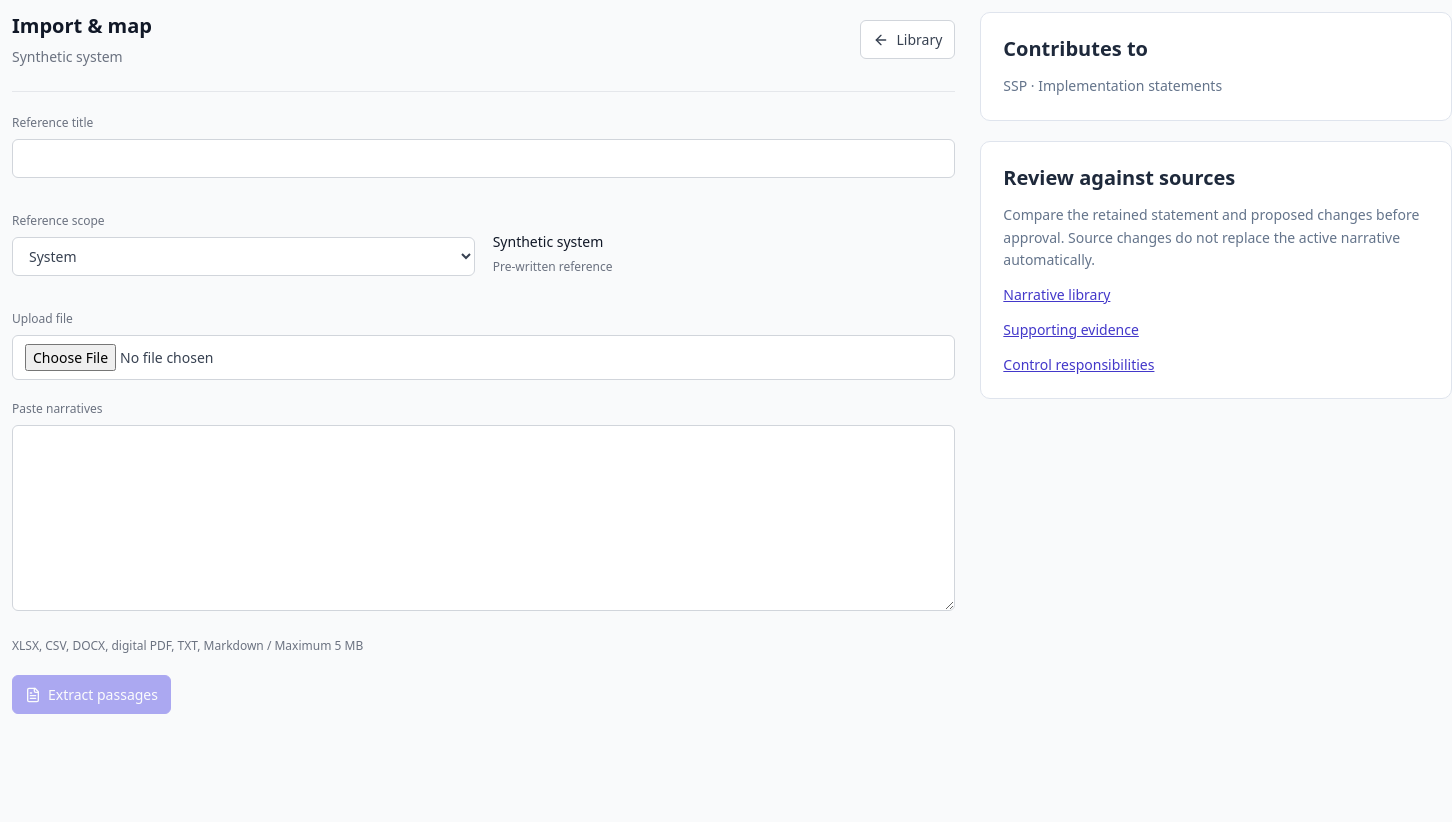
Scenario: Narratives workspace › rejects forged shared-reference scope even when system reference authoring is allowed
This screenshot has width=1452, height=822.
Expected: the text "Synthetic system" is shown, [12,47,123,66]
Type "Access policy" into the field labelled "Reference title". click: (484, 158)
box: [12,139,955,178]
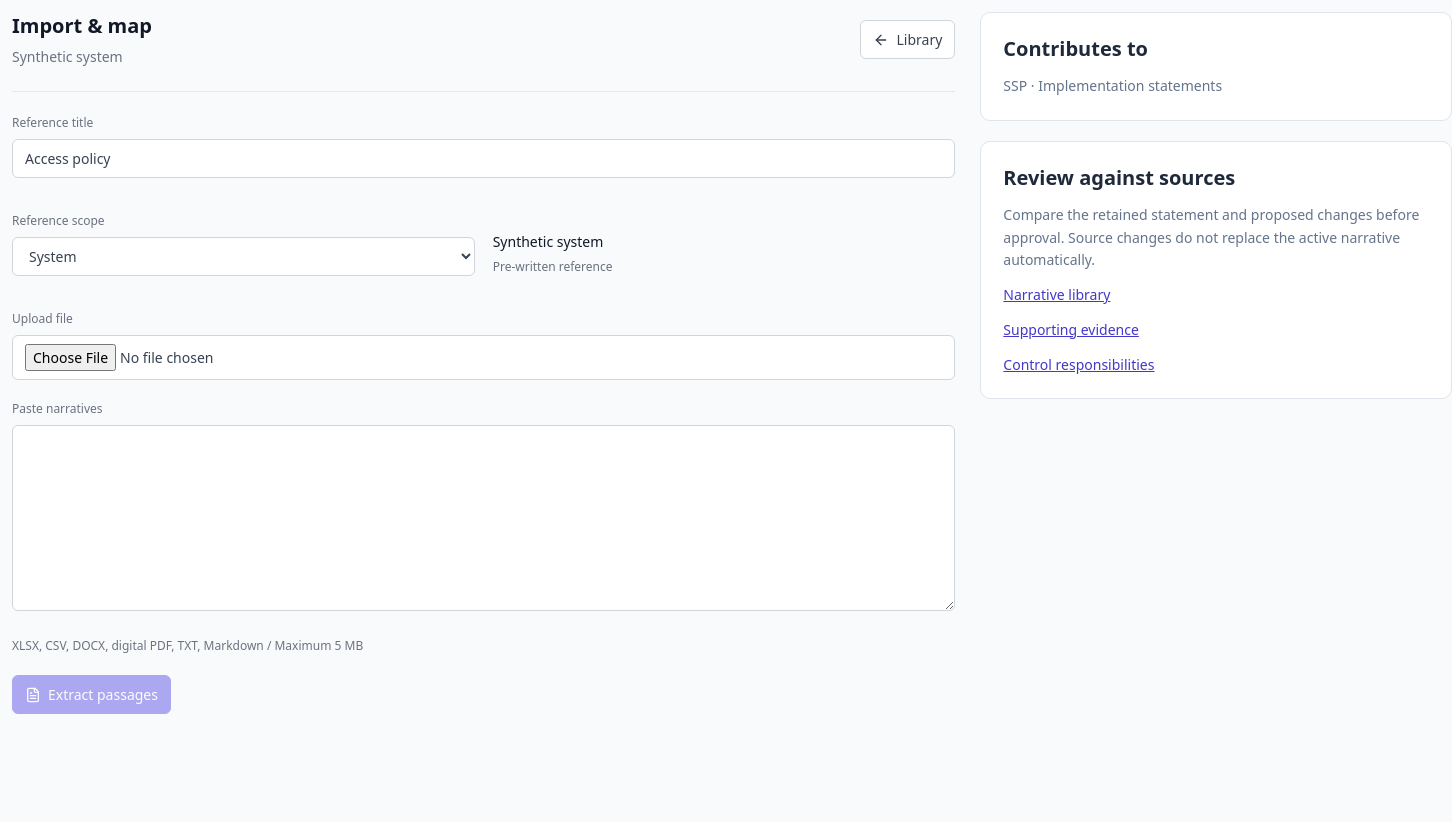
Type "Review quarterly." into the text box labelled "Paste narratives". click: (484, 518)
box: [12,425,955,611]
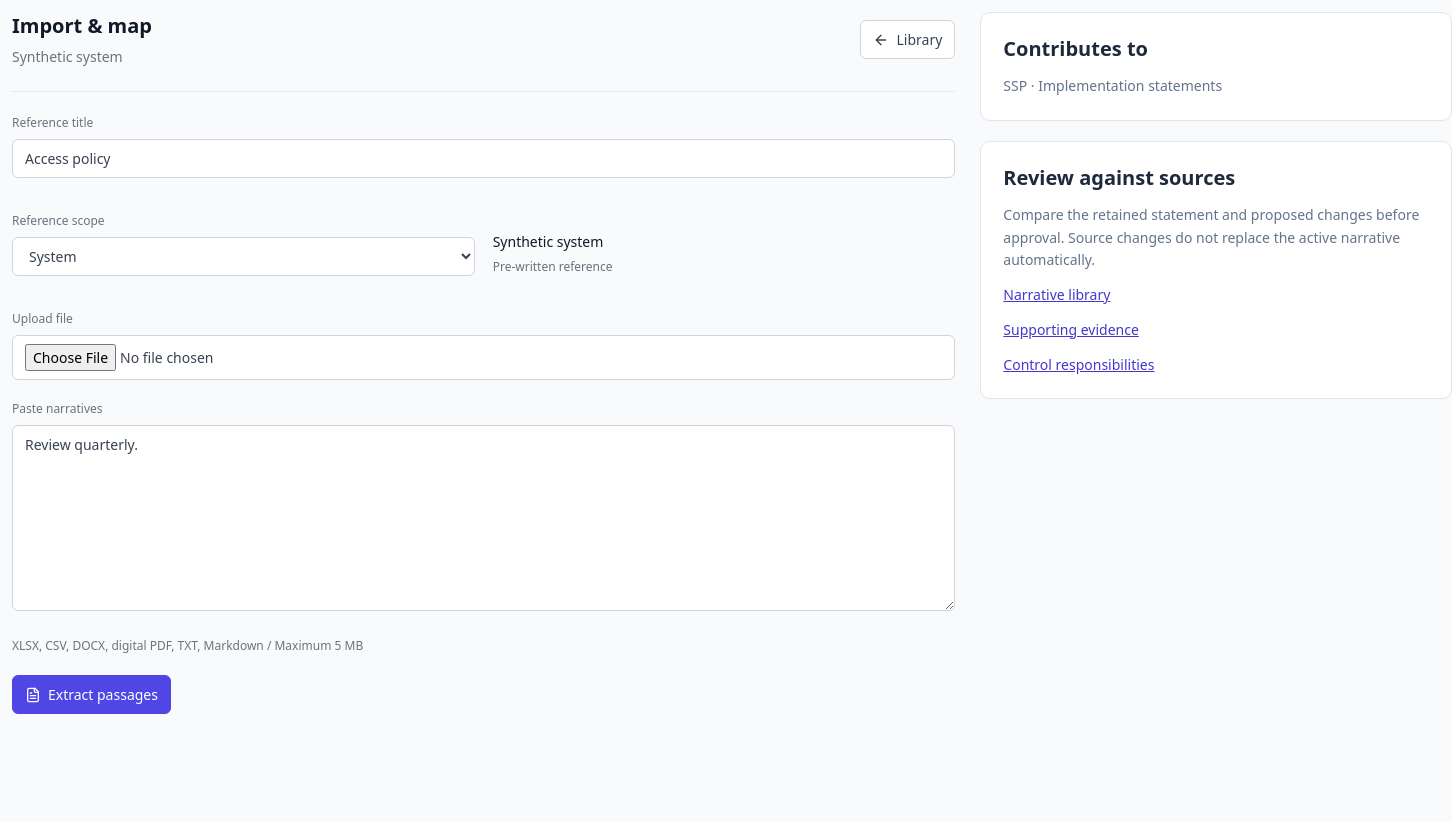
Select "Organization" in the dropdown labelled "Reference scope". click: (243, 256)
box: [12,237,475,276]
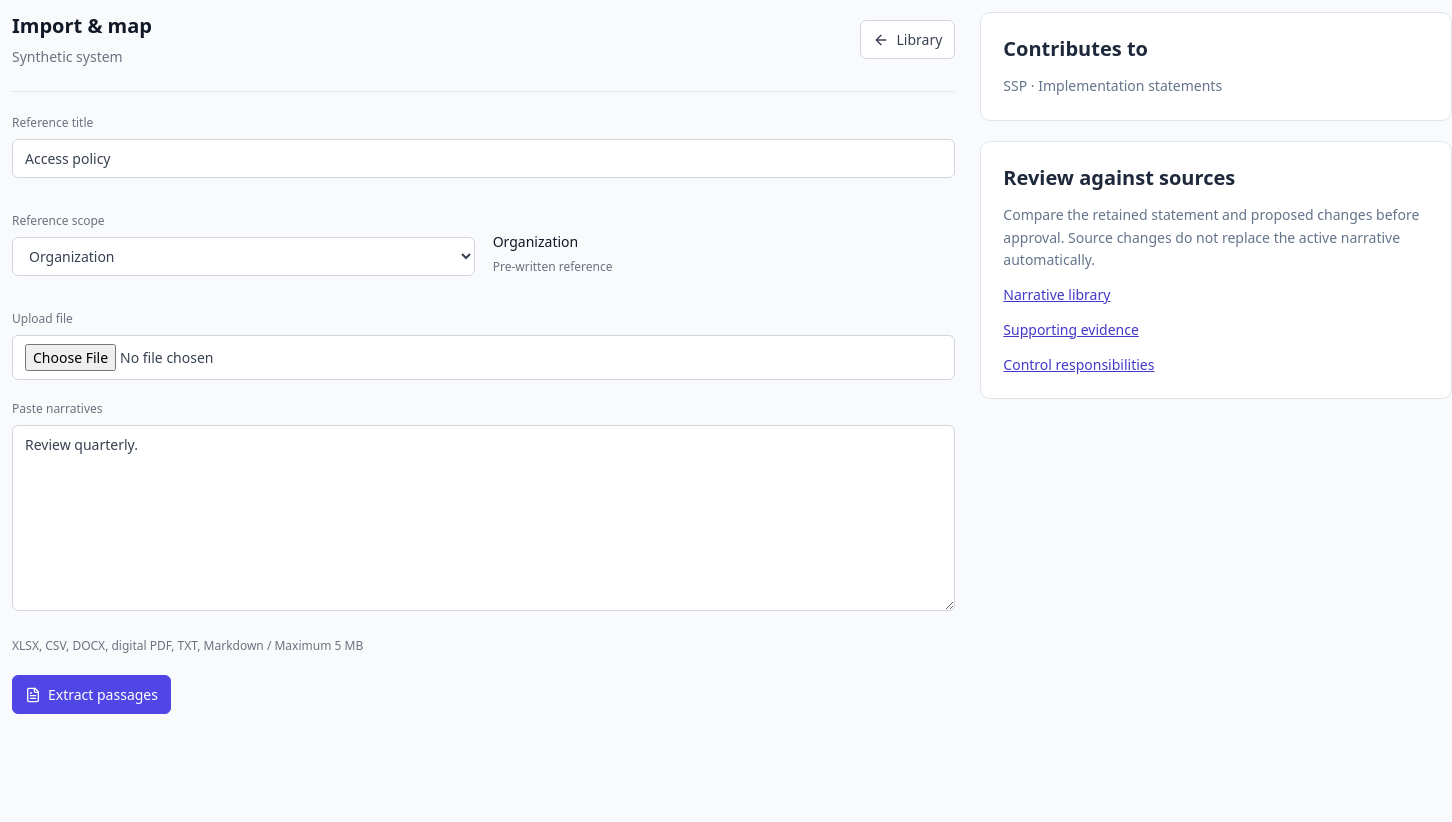
Click the button "Extract passages". click: (92, 694)
box: [12,675,171,714]
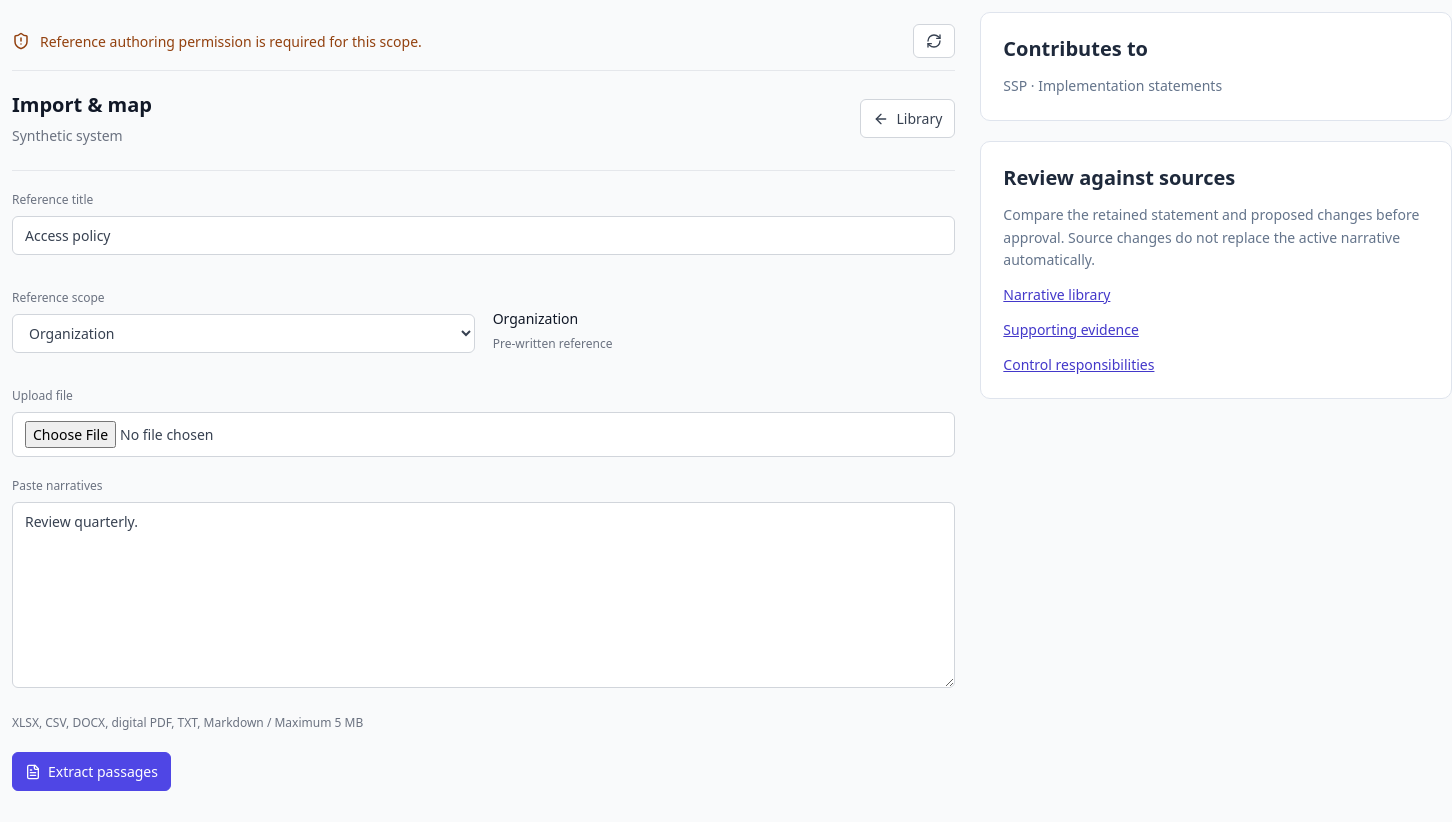
Now the message shows "permission", box [40,32,422,50]
